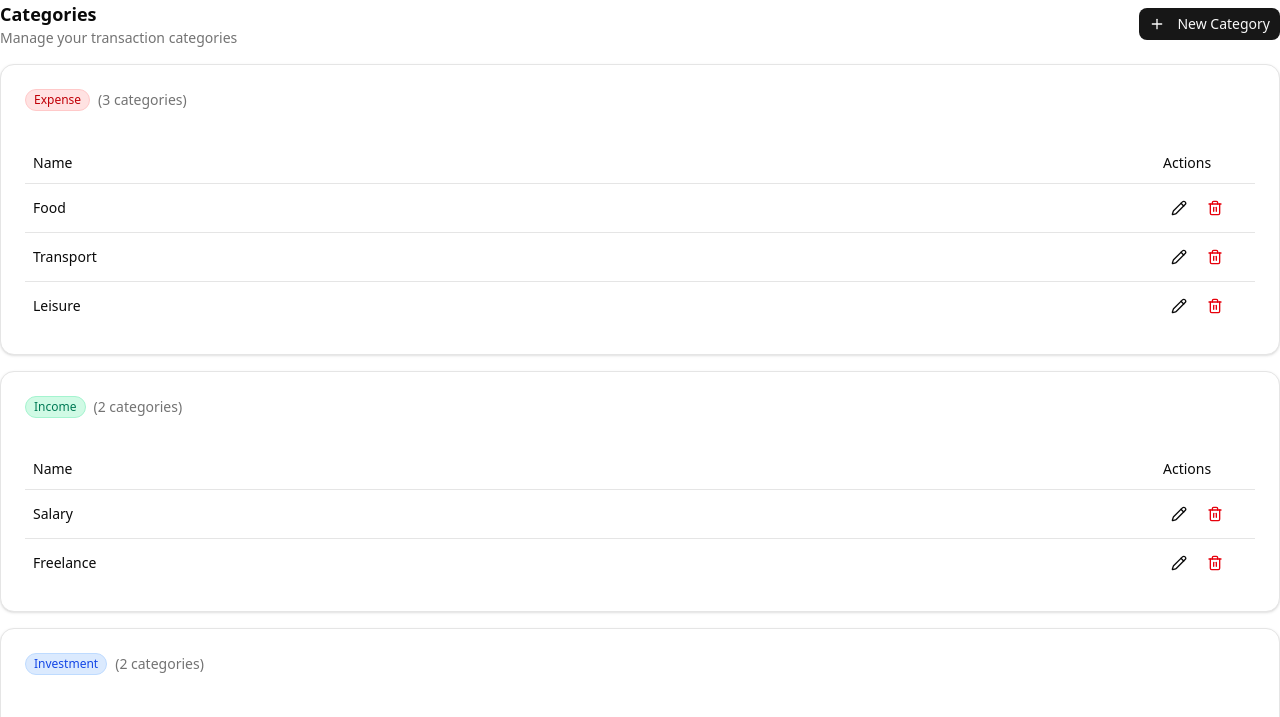
CategoryManager › opens "Edit Category" dialog when edit button is clicked
Click the button titled "Edit" in the row of "Food" at (1179, 208), box [1163,192,1195,224]
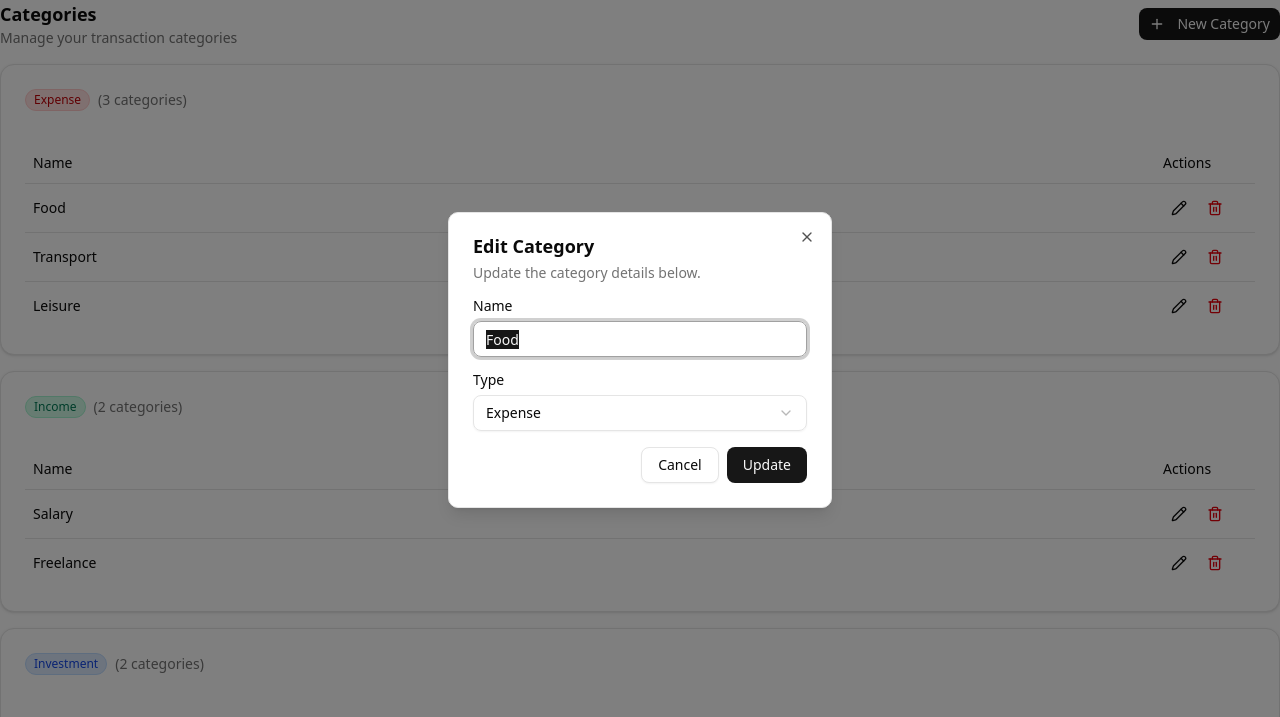
Result: the heading "Edit Category" is shown at [473,234,594,258]
Result: the field labelled "Name" holds "Food" at [473,321,807,357]
